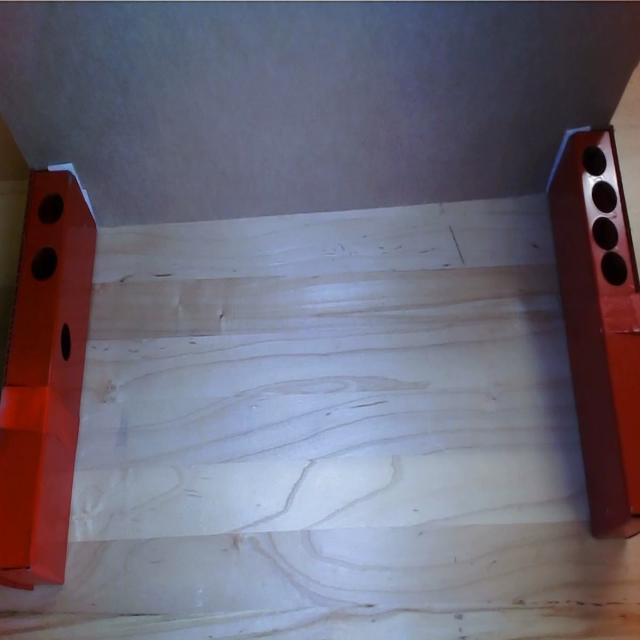Hole: (601, 251, 631, 288), (589, 180, 620, 213), (592, 214, 620, 250), (581, 142, 607, 179), (31, 247, 57, 280), (38, 192, 64, 224), (60, 323, 72, 361)
